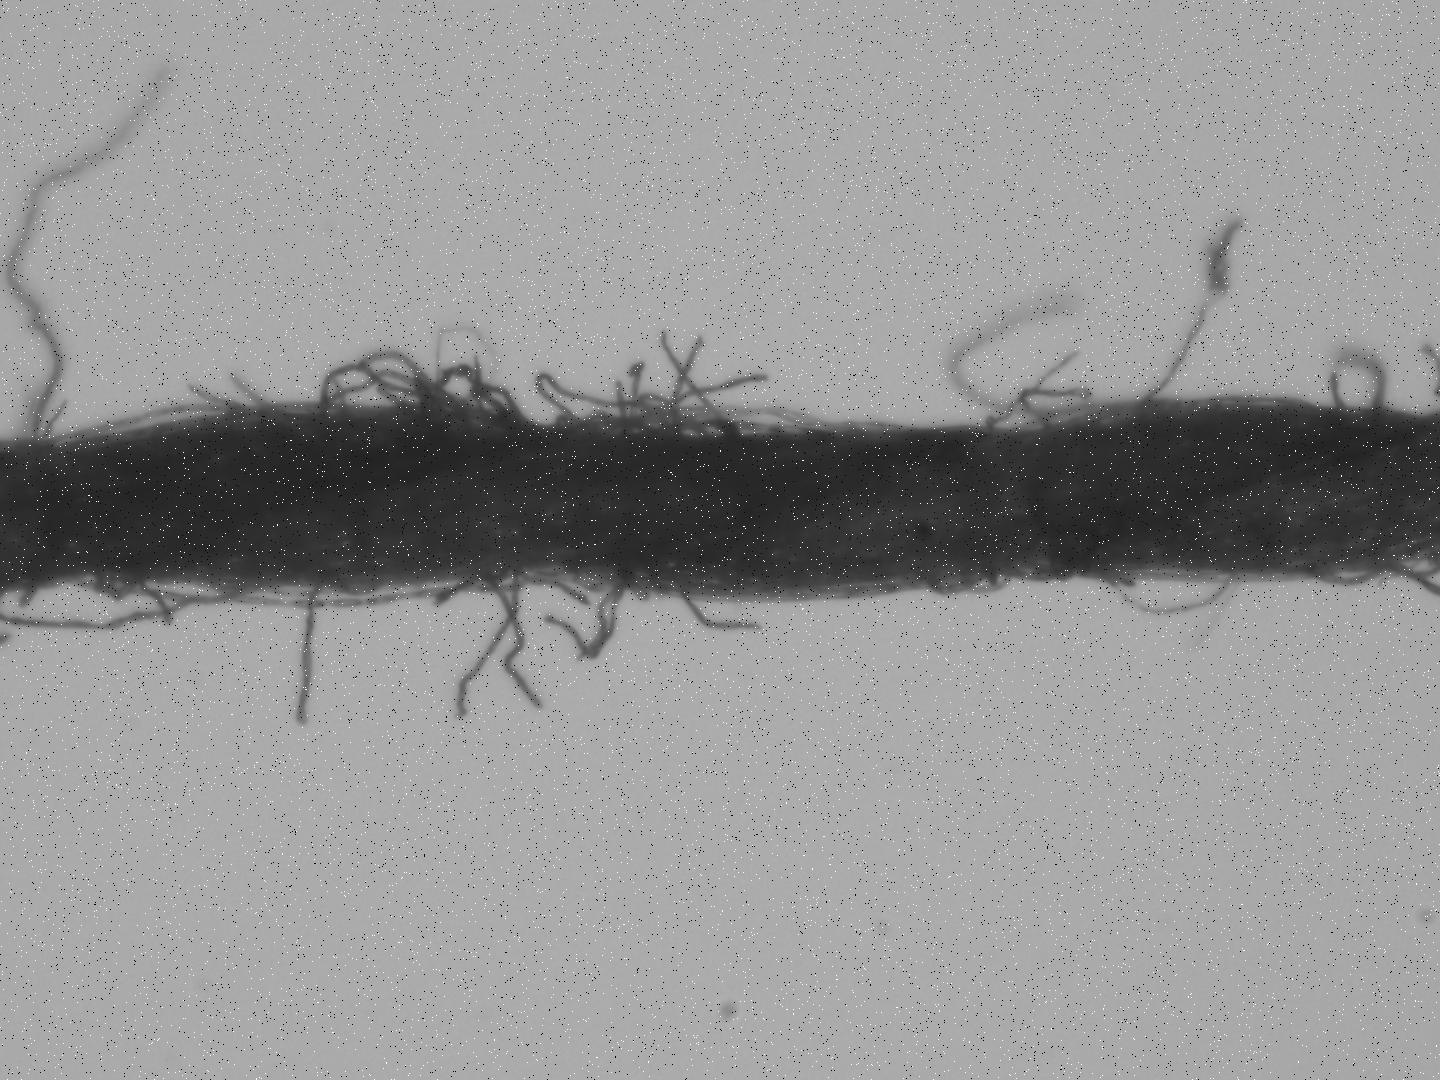loop_fiber: (530, 365, 903, 437), (315, 319, 524, 427), (0, 568, 253, 636), (79, 572, 484, 610), (1103, 568, 1238, 616), (1323, 341, 1396, 420), (1315, 556, 1439, 597)
protruding_fiber: (4, 60, 173, 441), (1115, 215, 1245, 417), (942, 288, 1108, 423), (452, 566, 527, 716), (475, 573, 547, 711), (980, 345, 1081, 432), (543, 573, 627, 665), (657, 323, 723, 429), (636, 369, 775, 416), (294, 575, 327, 720), (659, 331, 708, 425), (678, 584, 765, 636), (1015, 384, 1089, 420), (221, 367, 285, 408)
